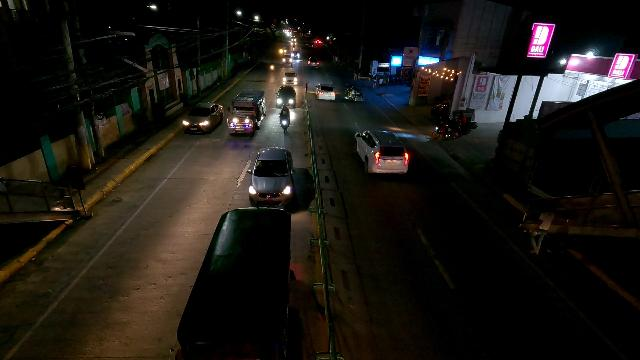car: (248, 143, 295, 210), (351, 129, 411, 178), (181, 100, 224, 134), (314, 81, 338, 103), (275, 85, 297, 109), (281, 71, 299, 86), (307, 57, 321, 69), (281, 53, 292, 64), (290, 51, 301, 59)
jeepney: (227, 88, 267, 136)
motorcycle: (278, 105, 293, 136)
